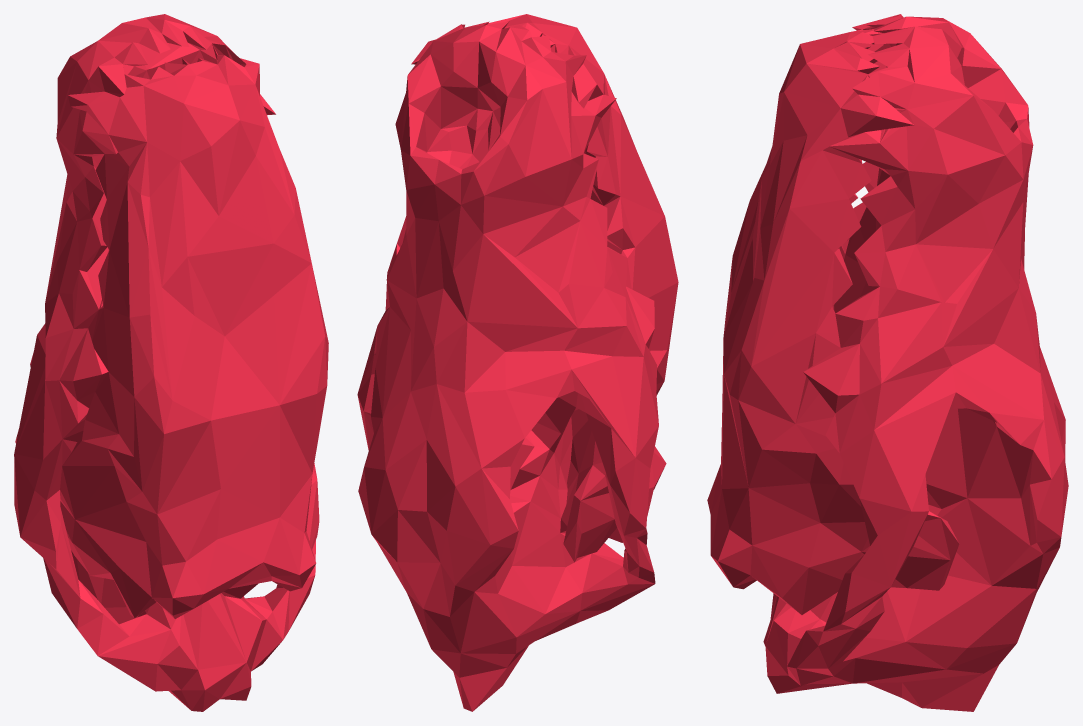
File: wolf_skull1.glb
The picture shows the model from 3 angles, left to right: view 1: azimuth 30°, elevation 25°; view 2: azimuth 150°, elevation 25°; view 3: azimuth 270°, elevation 25°; orthographic projection. The views are drawn at different scales.
Parts seen in each view (by area): view 1: wolf_skull1; view 2: wolf_skull1; view 3: wolf_skull1.
Boxes of the visible parts, bbox=[...] form: wolf_skull1: bbox=[14, 14, 328, 711]; wolf_skull1: bbox=[357, 14, 678, 711]; wolf_skull1: bbox=[707, 14, 1068, 711].
Bounding box in the file's own units: 0.9089 × 2.04 × 0.9678.
